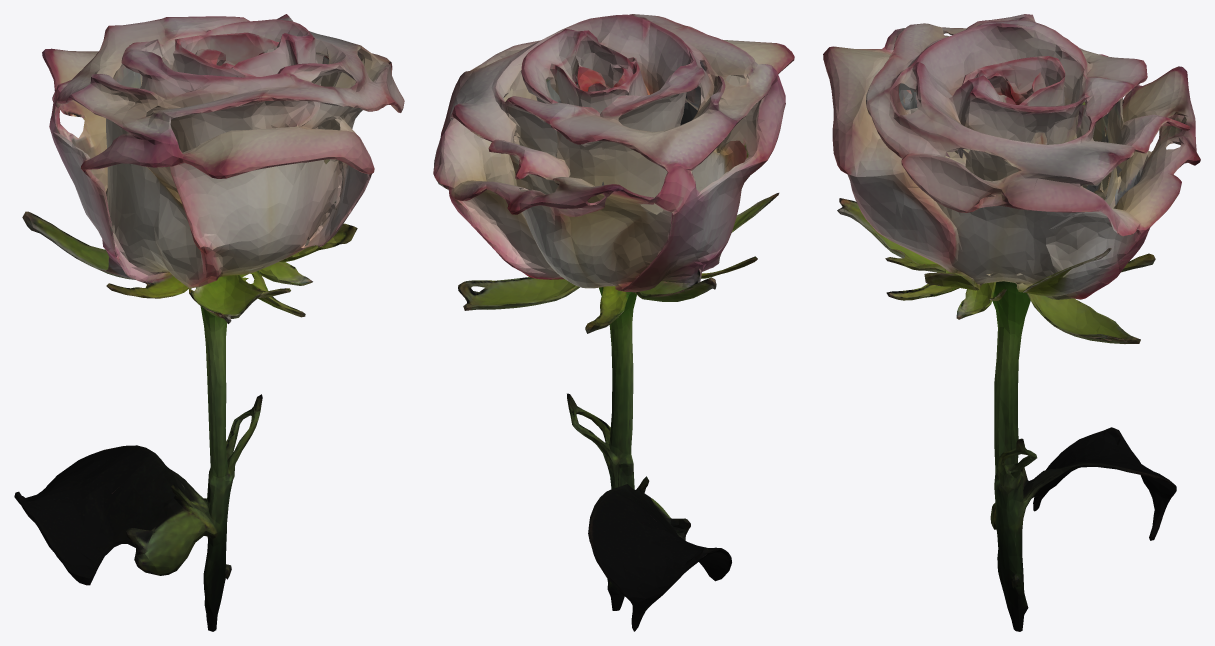
3 renders of one model, left to right at view 1: azimuth 30°, elevation 25°; view 2: azimuth 150°, elevation 25°; view 3: azimuth 270°, elevation 25°, orthographic. The views are drawn at different scales.
Parts seen in each view (by area): view 1: world; view 2: world; view 3: world.
Part boxes in pixels (x1,y1,x2,y2): world: (14,14,404,631); world: (433,14,794,631); world: (823,14,1200,631).
Bounding box in the file's own units: 0.5581 × 0.982 × 0.5795.
1 material, 1 textured.
